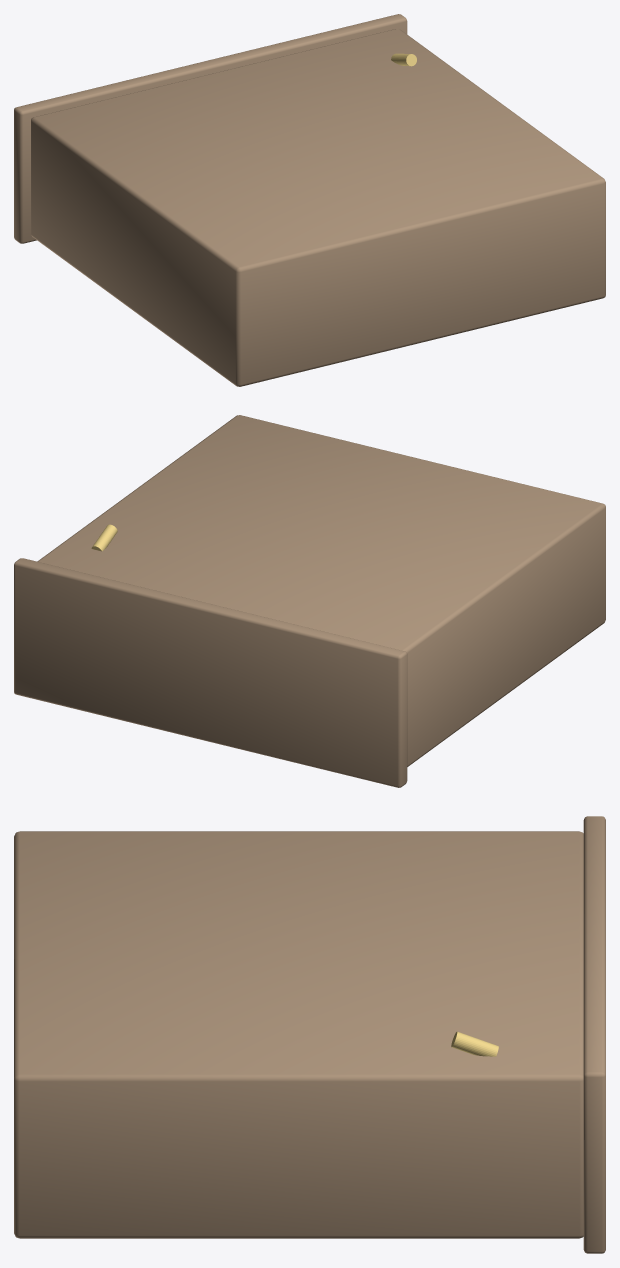
The model's file is cabinet.glb.
3 views of the same model, one above another, from view 1: azimuth 30°, elevation 25°; view 2: azimuth 150°, elevation 25°; view 3: azimuth 270°, elevation 25° (orthographic). The views are drawn at different scales.
Visible parts, largest first — view 1: CabinetBody, CabinetTop; view 2: CabinetBody, CabinetTop; view 3: CabinetBody, CabinetTop, GraceHook.
Part boxes in pixels (left/top/right/bottom): CabinetBody: left=31, top=29, right=605, bottom=386; CabinetTop: left=14, top=14, right=407, bottom=243; CabinetBody: left=37, top=415, right=605, bottom=766; CabinetTop: left=14, top=558, right=407, bottom=787; CabinetBody: left=14, top=831, right=583, bottom=1238; CabinetTop: left=583, top=816, right=605, bottom=1253; GraceHook: left=451, top=1031, right=498, bottom=1056.
Size of the model in its own units: 2.2 by 0.7669 by 2.12.
